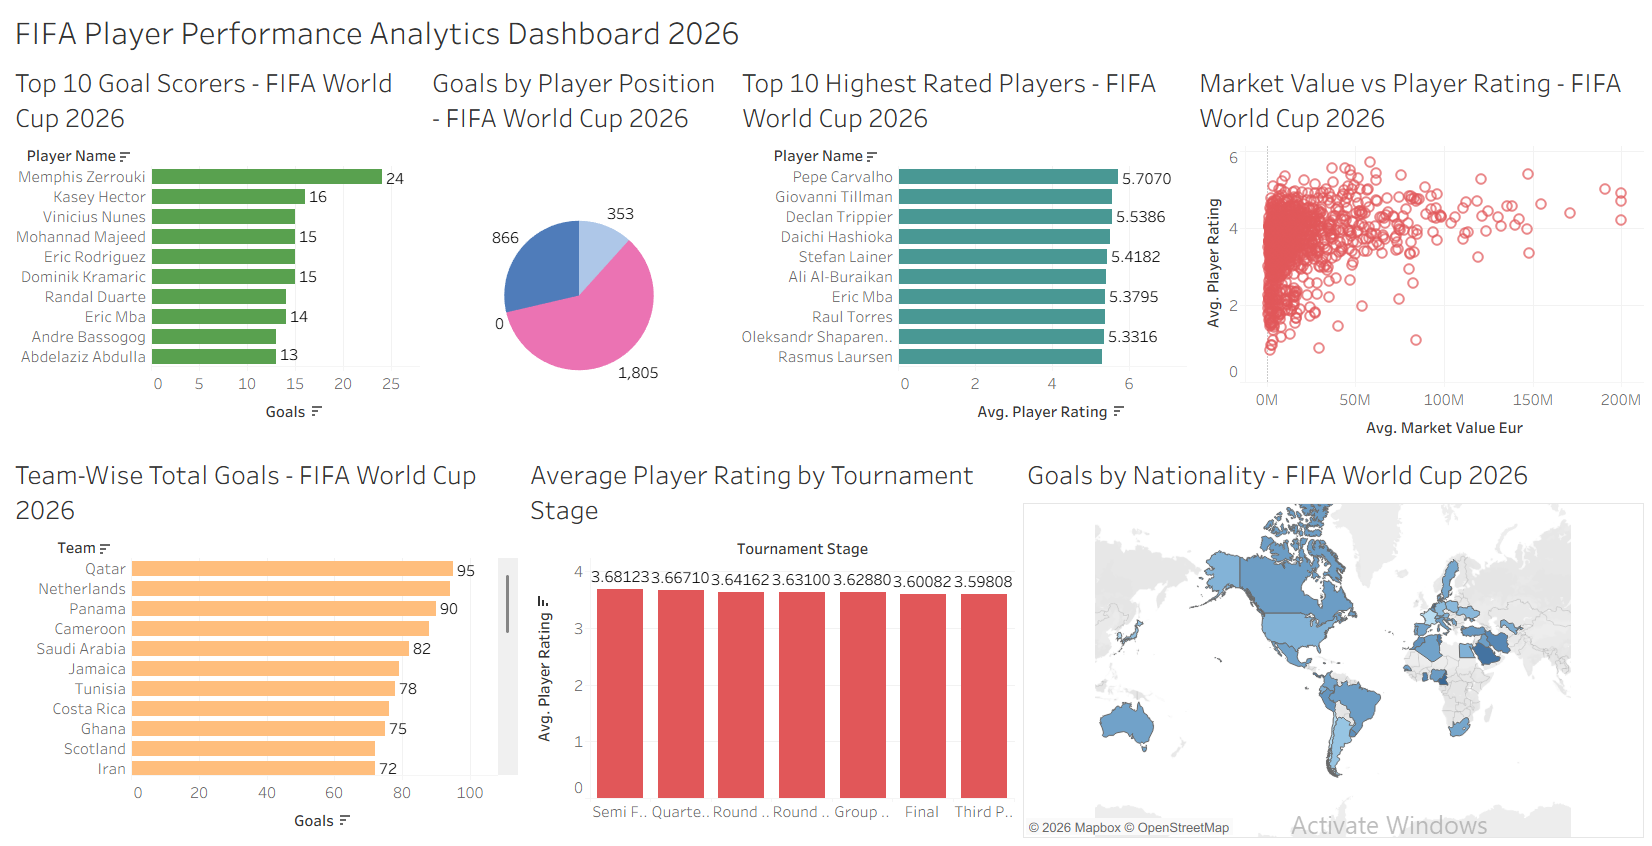

Layout of this report page (visuals, bound fields, positions):
{"tool":"tableau","page":{"name":"FIFA Player Performance Analytics Dashboard 2026","canvas":[1000,1000],"units":"permille","ordinal":0},"visuals":[{"type":"title","box":[4.8,9.4,990.3,58.8]},{"type":"worksheet","title":"Top 10 Goal Scorers - FIFA World Cup 2026","mark":"Automatic","rows":["player_name"],"cols":["goals"],"box":[4.8,68.2,251.8,461.2]},{"type":"worksheet","title":"Goals by Player Position - FIFA World Cup 2026","mark":"Pie","box":[256.6,68.2,186.8,461.2]},{"type":"worksheet","title":"Top 10 Highest Rated Players - FIFA World Cup 2026","mark":"Automatic","rows":["player_name"],"cols":["player_rating"],"box":[443.5,68.2,275.9,461.2]},{"type":"worksheet","title":"Market Value vs Player Rating - FIFA World Cup 2026","mark":"Automatic","rows":["player_rating"],"cols":["market_value_eur"],"box":[719.3,68.2,275.9,461.2]},{"type":"worksheet","title":"Team-Wise Total Goals - FIFA World Cup 2026","mark":"Automatic","rows":["team"],"cols":["goals"],"box":[4.8,529.4,311,461.2]},{"type":"worksheet","title":"Average Player Rating by Tournament Stage","mark":"Automatic","rows":["player_rating"],"cols":["tournament_stage"],"box":[315.9,529.4,299.8,461.2]},{"type":"worksheet","title":"Goals by Nationality - FIFA World Cup 2026","mark":"Automatic","box":[615.7,529.4,379.5,461.2]}]}

Visuals, with their boxes on the dashboard's canvas, which has no fixed pixel size, in thousandths of its width and height (x1, y1, x2, y2). These are canvas units, not pixel positions in the 1652x846 screenshot, which may show the page scaled, cropped or inside an application window:
title: [5,9,995,68]
"Top 10 Goal Scorers - FIFA World Cup 2026" worksheet: [5,68,257,529]
"Goals by Player Position - FIFA World Cup 2026" worksheet (Pie marks): [257,68,443,529]
"Top 10 Highest Rated Players - FIFA World Cup 2026" worksheet: [444,68,719,529]
"Market Value vs Player Rating - FIFA World Cup 2026" worksheet: [719,68,995,529]
"Team-Wise Total Goals - FIFA World Cup 2026" worksheet: [5,529,316,991]
"Average Player Rating by Tournament Stage" worksheet: [316,529,616,991]
"Goals by Nationality - FIFA World Cup 2026" worksheet: [616,529,995,991]
